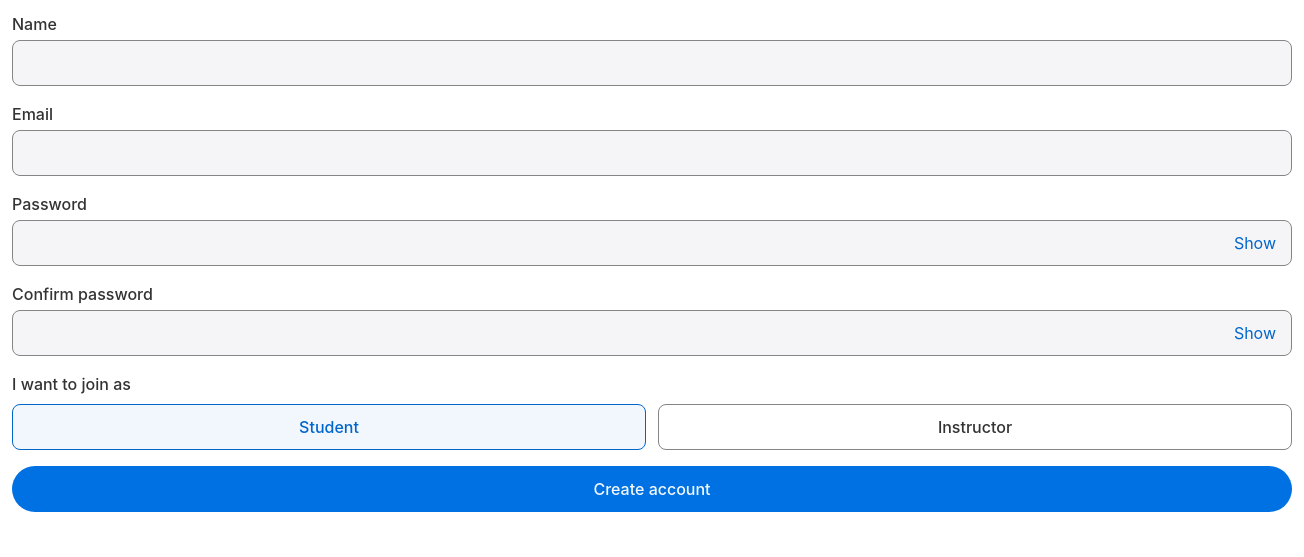
Test: RegisterForm › shows the mismatch error under the confirm password field
The image size is (1304, 557).
Step 1. Type "Jane Student" into the field labelled "Name" → x=652, y=63, box [12, 40, 1292, 86]
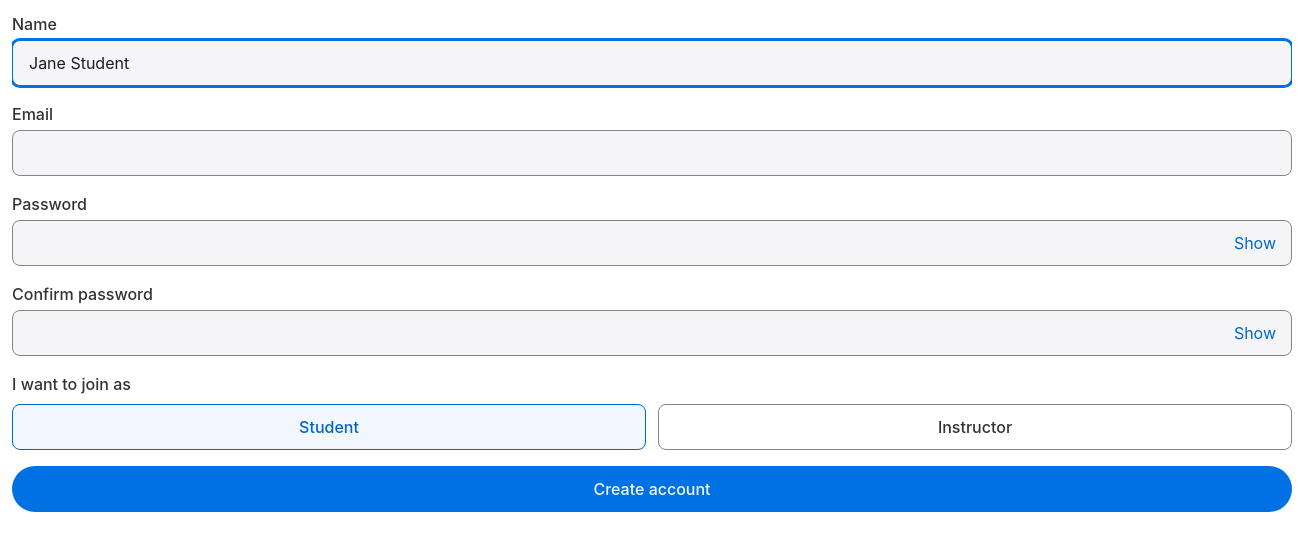
Step 2. Type "student@example.com" into the field labelled "Email" → x=652, y=153, box [12, 130, 1292, 176]
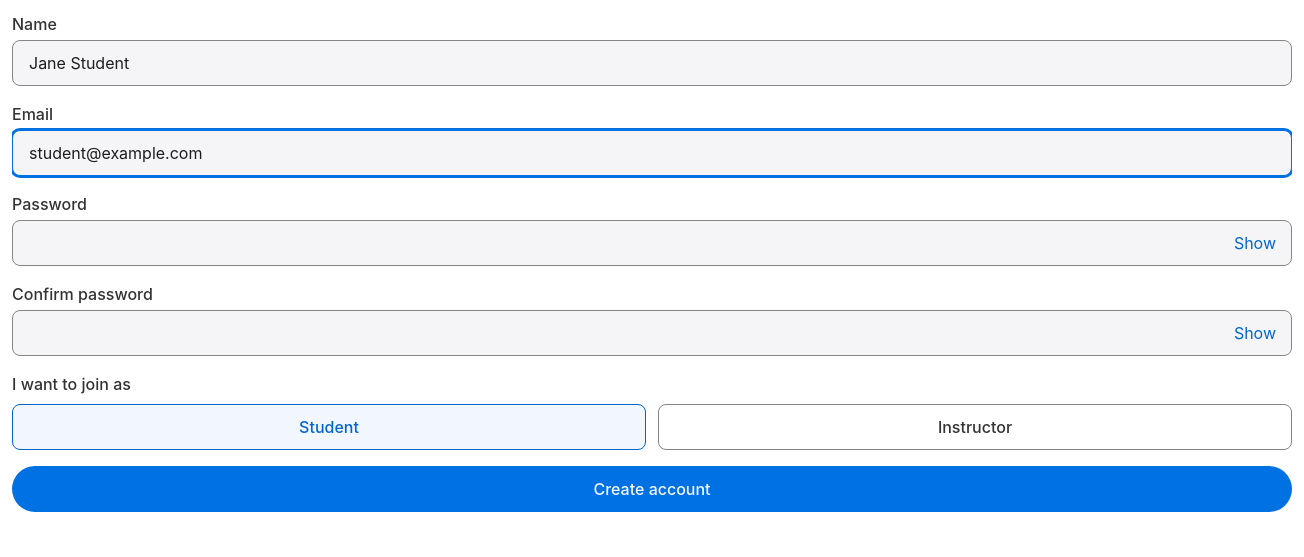
Step 3. Type "Password1" into the password field labelled "Password" → x=652, y=243, box [12, 220, 1292, 266]
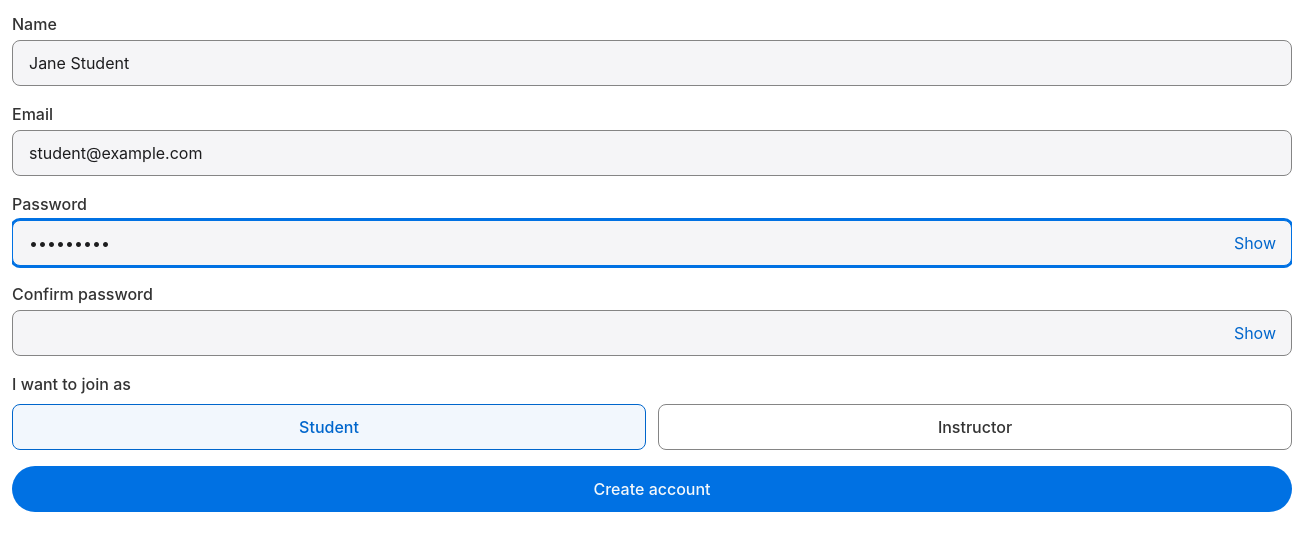
Step 4. Type "Password1" into the password field labelled "Confirm password" → x=652, y=333, box [12, 310, 1292, 356]
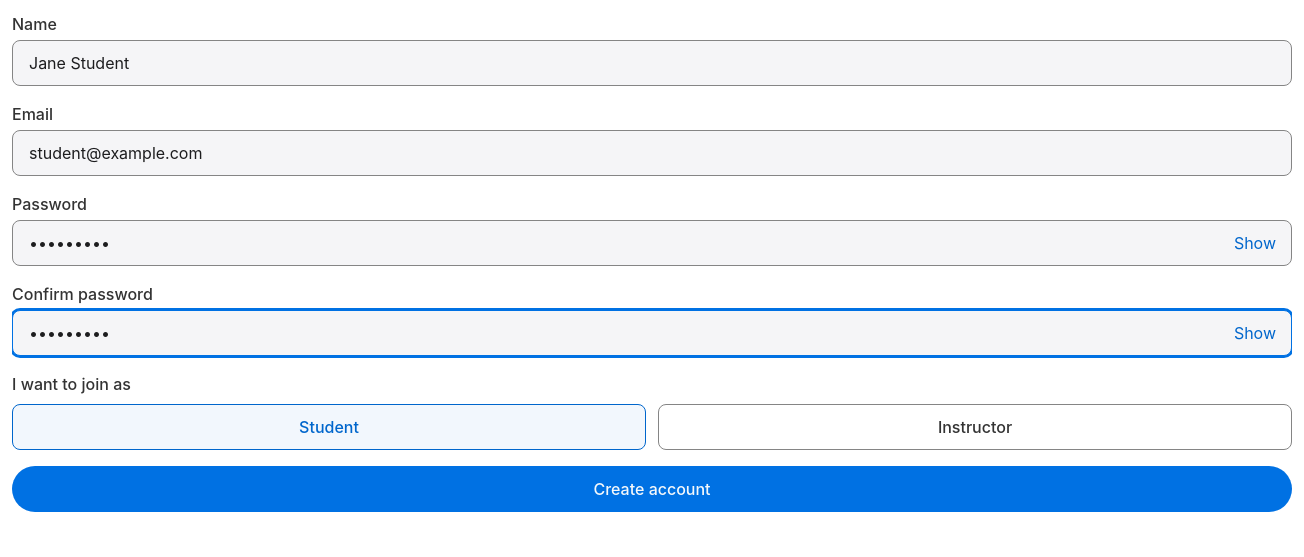
Step 5. Type "Different1" into the password field labelled "Confirm password" → x=652, y=333, box [12, 310, 1292, 356]
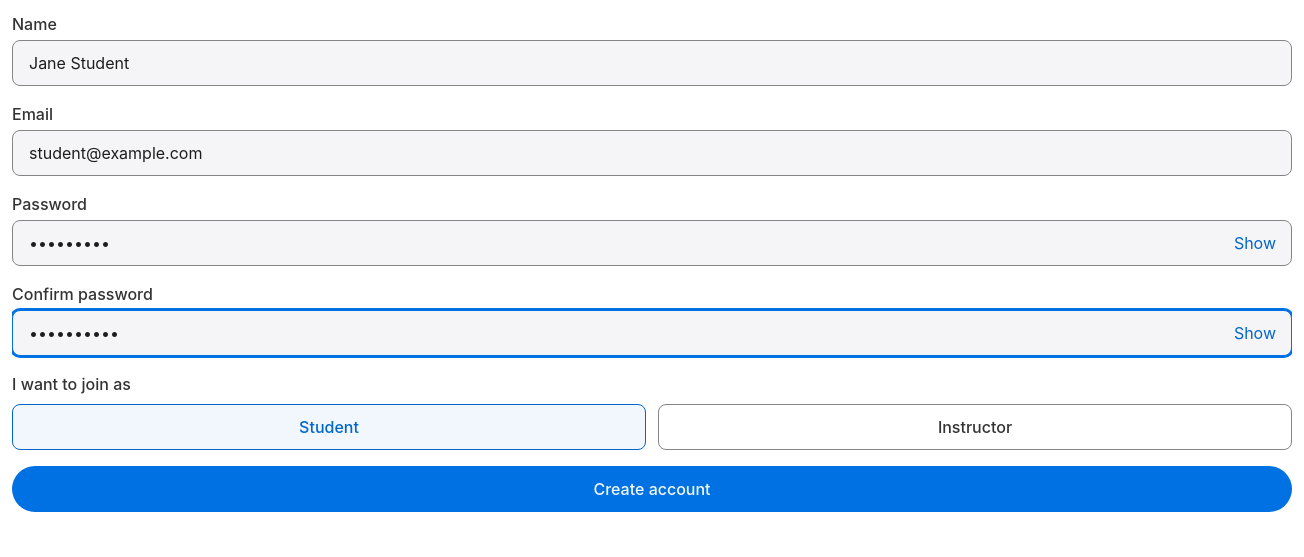
Step 6. Click the button "Create account" → x=652, y=489, box [12, 466, 1292, 512]
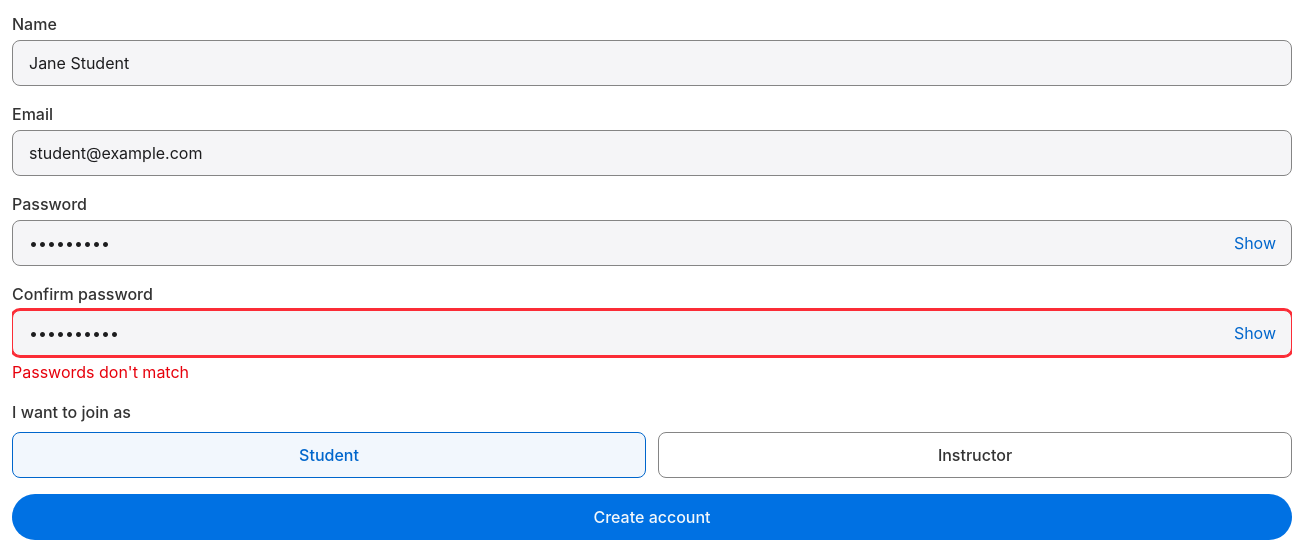
expect the text "Passwords don't match" is shown: met, box [12, 362, 189, 382]
